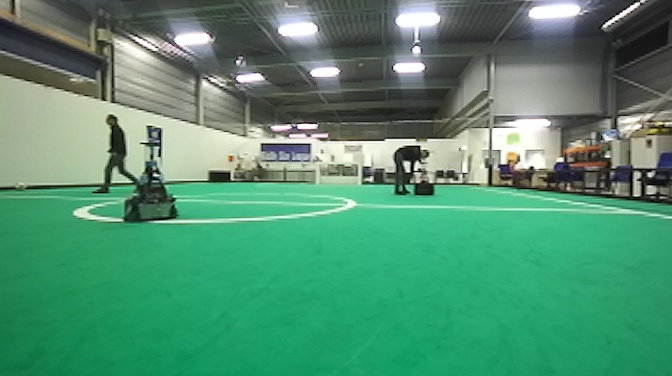ball: (11, 179, 32, 194)
goal: (315, 161, 364, 188)
goalpost: (314, 162, 322, 187), (357, 160, 363, 188)
human: (87, 110, 147, 196), (390, 142, 434, 198)
robot: (117, 135, 182, 225), (409, 159, 437, 197)
